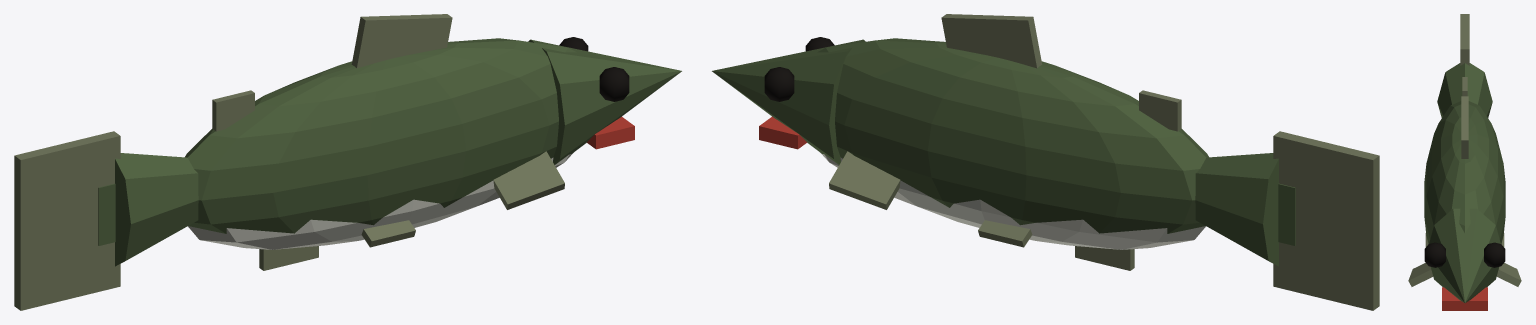
Rendered from trout_cutthroat.glb.
The picture shows the model from 3 angles, left to right: view 1: azimuth 30°, elevation 25°; view 2: azimuth 150°, elevation 25°; view 3: azimuth 270°, elevation 25°; orthographic projection. The views are drawn at different scales.
Visible parts, largest first — view 1: trout_cutthroat, fin_tail; view 2: trout_cutthroat, fin_tail; view 3: trout_cutthroat, fin_tail.
Part boxes in pixels (x1=…): trout_cutthroat: x1=115, y1=14, x2=681, y2=270; fin_tail: x1=14, y1=131, x2=120, y2=310; trout_cutthroat: x1=712, y1=14, x2=1278, y2=270; fin_tail: x1=1273, y1=131, x2=1379, y2=310; trout_cutthroat: x1=1408, y1=63, x2=1521, y2=310; fin_tail: x1=1460, y1=14, x2=1469, y2=65.
Bounding box in the file's own units: 0.6 × 0.1948 × 0.1224.
